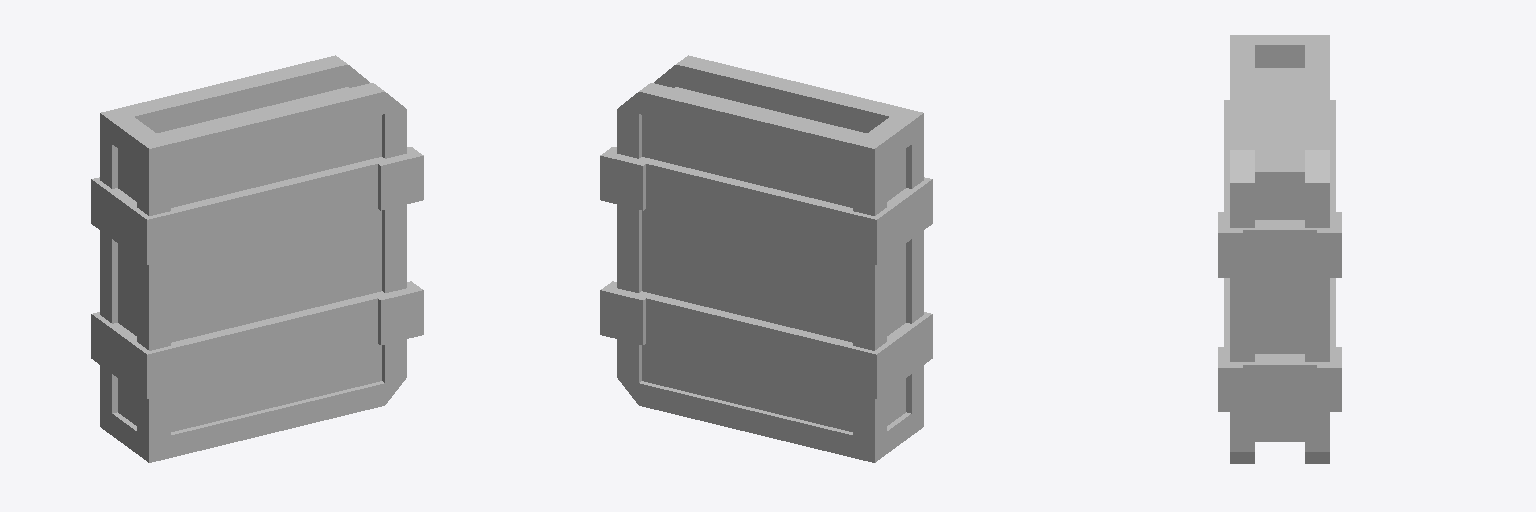
Rendered from bookshiftinglands_closed.obj.
The picture shows the model from 3 angles: view 1: azimuth 30°, elevation 25°; view 2: azimuth 150°, elevation 25°; view 3: azimuth 270°, elevation 25°; orthographic projection.
Parts seen in each view (by area): view 1: COVER_RIGHT_CLOSED_Cube.003, STRAPS_CLOSED_Cube.021, COVER_LEFT_CLOSED_Cube.007, SPINE_CLOSED_Cube.004; view 2: COVER_LEFT_CLOSED_Cube.007, STRAPS_CLOSED_Cube.021, SPINE_CLOSED_Cube.004, COVER_RIGHT_CLOSED_Cube.003; view 3: COVER_RIGHT_CLOSED_Cube.003, COVER_LEFT_CLOSED_Cube.007, PAGES_RIGHT_CLOSED_Cube.002, PAGES_LEFT_CLOSED_Cube.008, STRAPS_CLOSED_Cube.021, SPINE_CLOSED_Cube.004.
Part boxes in pixels (left/top/right/bottom): COVER_RIGHT_CLOSED_Cube.003: left=137, top=83, right=423, bottom=462; STRAPS_CLOSED_Cube.021: left=91, top=159, right=377, bottom=398; COVER_LEFT_CLOSED_Cube.007: left=112, top=55, right=369, bottom=413; SPINE_CLOSED_Cube.004: left=100, top=108, right=157, bottom=453; COVER_LEFT_CLOSED_Cube.007: left=600, top=83, right=864, bottom=457; STRAPS_CLOSED_Cube.021: left=646, top=159, right=932, bottom=398; SPINE_CLOSED_Cube.004: left=853, top=117, right=911, bottom=462; COVER_RIGHT_CLOSED_Cube.003: left=654, top=55, right=923, bottom=434; COVER_RIGHT_CLOSED_Cube.003: left=1218, top=35, right=1316, bottom=463; COVER_LEFT_CLOSED_Cube.007: left=1305, top=45, right=1341, bottom=463; PAGES_RIGHT_CLOSED_Cube.002: left=1255, top=68, right=1279, bottom=441; PAGES_LEFT_CLOSED_Cube.008: left=1280, top=68, right=1304, bottom=441; STRAPS_CLOSED_Cube.021: left=1224, top=100, right=1335, bottom=346; SPINE_CLOSED_Cube.004: left=1255, top=35, right=1329, bottom=67.
Size of the model in its own units: 0.7969 by 0.875 by 0.3125.